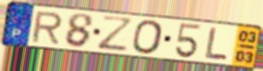5: (174, 22, 203, 60)
8: (65, 13, 95, 49)
L: (204, 26, 230, 61)
O: (131, 19, 165, 56)
R: (30, 11, 65, 45)
Z: (96, 14, 136, 53)
